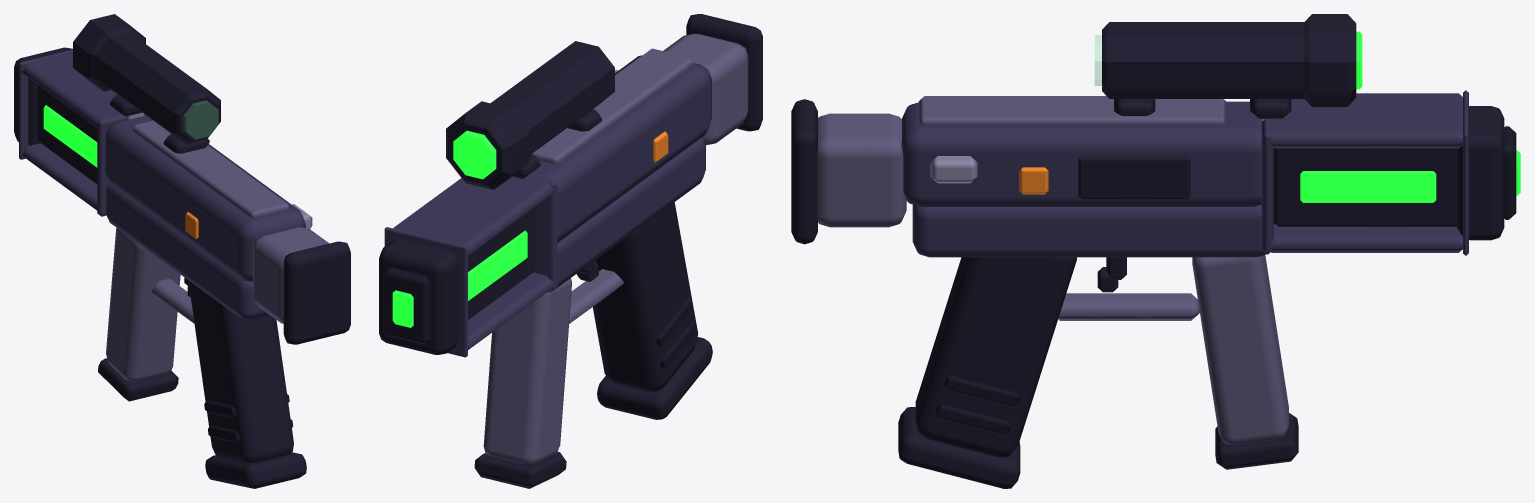
File: scout_rifle.glb
3 views of the same model, side by side, from view 1: azimuth 30°, elevation 25°; view 2: azimuth 150°, elevation 25°; view 3: azimuth 270°, elevation 25° (orthographic). The views are drawn at different scales.
Visible parts, largest first — view 1: item.scout_rifle.body, part.sight, part.mag; view 2: item.scout_rifle.body, part.mag, part.sight; view 3: item.scout_rifle.body, part.sight, part.mag, part.bolt.
Boxes of the visible parts, <box> form: item.scout_rifle.body: <box>14,47,350,488</box>; part.sight: <box>73,14,220,144</box>; part.mag: <box>98,227,180,401</box>; item.scout_rifle.body: <box>379,14,762,419</box>; part.mag: <box>474,278,571,488</box>; part.sight: <box>446,41,614,189</box>; item.scout_rifle.body: <box>791,90,1520,488</box>; part.sight: <box>1095,14,1362,121</box>; part.mag: <box>1192,255,1298,469</box>; part.bolt: <box>930,156,977,183</box>.
Size of the model in its own units: 0.1303 by 0.5281 by 0.7703.
